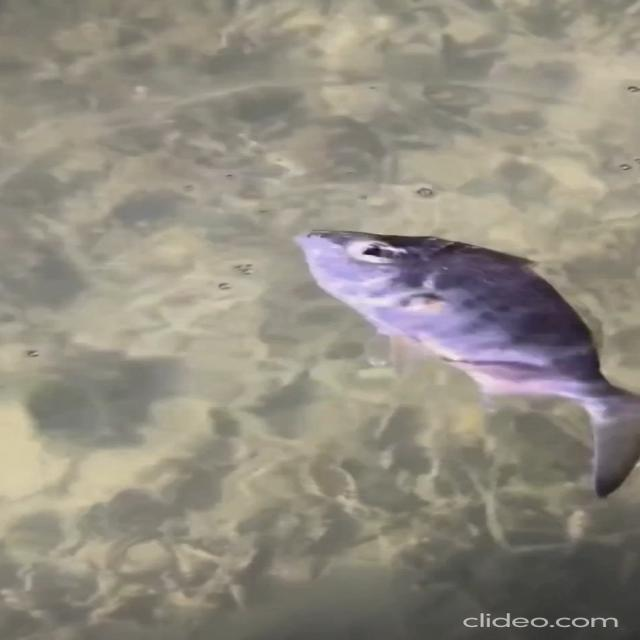fish: (292, 217, 640, 506)
